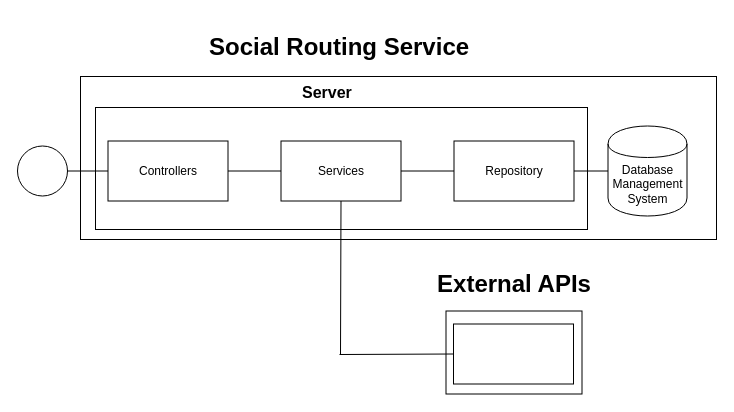
The diagram is 734 pixels wide and 412 high, and some of its shapes have lost their labels. The shapes that lost their labels are listed below. From the top down, each one's centre as x and y in pixels, then its label:
At (x=42, y=170): "API".
At (x=513, y=353): "Google Sign In API".
